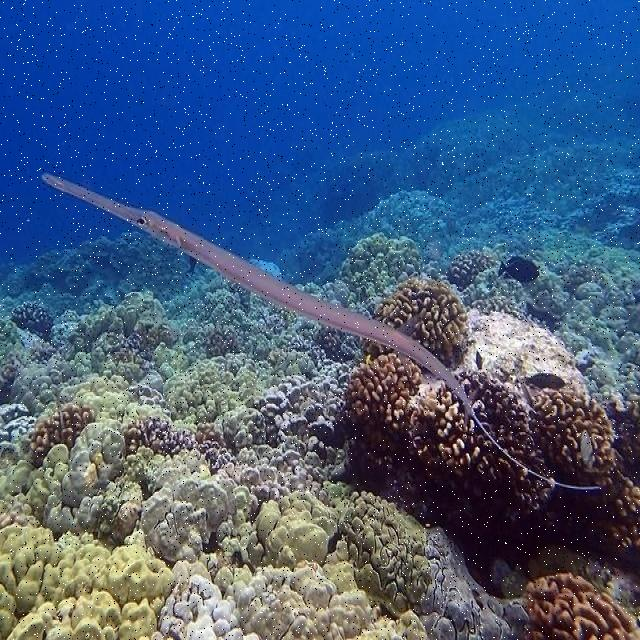fish: (42, 173, 601, 491)
reefs: (0, 91, 639, 639)
